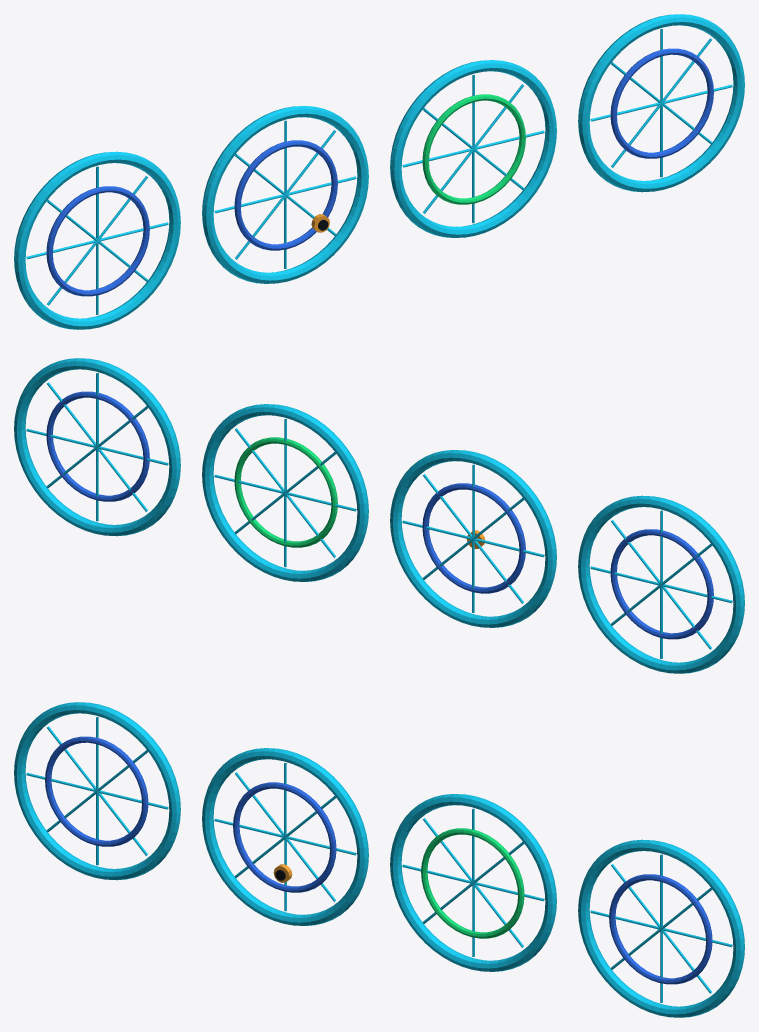
The model's file is 07_L88_FourCompartmentAtmosphereDigitalTwin.fbx.
3 views of the same model, one above another, from view 1: azimuth 30°, elevation 25°; view 2: azimuth 150°, elevation 25°; view 3: azimuth 330°, elevation 25° (orthographic).
Parts seen in each view (by area): view 1: L87_FourCompartmentAtmosphereDigitalTwin_Part_0000, L87_FourCompartmentAtmosphereDigitalTwin_Part_0001, L87_FourCompartmentAtmosphereDigitalTwin_Part_0002, L87_FourCompartmentAtmosphereDigitalTwin_Part_0003, L87_FourCompartmentAtmosphereDigitalTwin_Part_0004; view 2: L87_FourCompartmentAtmosphereDigitalTwin_Part_0000, L87_FourCompartmentAtmosphereDigitalTwin_Part_0001, L87_FourCompartmentAtmosphereDigitalTwin_Part_0002, L87_FourCompartmentAtmosphereDigitalTwin_Part_0003, L87_FourCompartmentAtmosphereDigitalTwin_Part_0004; view 3: L87_FourCompartmentAtmosphereDigitalTwin_Part_0000, L87_FourCompartmentAtmosphereDigitalTwin_Part_0001, L87_FourCompartmentAtmosphereDigitalTwin_Part_0002, L87_FourCompartmentAtmosphereDigitalTwin_Part_0003, L87_FourCompartmentAtmosphereDigitalTwin_Part_0004.
Boxes of the visible parts, x1,y1,x2,y2 form: L87_FourCompartmentAtmosphereDigitalTwin_Part_0000: (14, 14, 744, 329); L87_FourCompartmentAtmosphereDigitalTwin_Part_0001: (46, 48, 713, 296); L87_FourCompartmentAtmosphereDigitalTwin_Part_0002: (26, 75, 544, 314); L87_FourCompartmentAtmosphereDigitalTwin_Part_0003: (402, 29, 732, 223); L87_FourCompartmentAtmosphereDigitalTwin_Part_0004: (422, 94, 525, 204); L87_FourCompartmentAtmosphereDigitalTwin_Part_0000: (14, 358, 744, 673); L87_FourCompartmentAtmosphereDigitalTwin_Part_0001: (46, 391, 713, 639); L87_FourCompartmentAtmosphereDigitalTwin_Part_0002: (214, 419, 732, 658); L87_FourCompartmentAtmosphereDigitalTwin_Part_0003: (26, 373, 356, 567); L87_FourCompartmentAtmosphereDigitalTwin_Part_0004: (234, 437, 337, 547); L87_FourCompartmentAtmosphereDigitalTwin_Part_0000: (14, 702, 744, 1017); L87_FourCompartmentAtmosphereDigitalTwin_Part_0001: (45, 736, 712, 984); L87_FourCompartmentAtmosphereDigitalTwin_Part_0002: (26, 717, 544, 911); L87_FourCompartmentAtmosphereDigitalTwin_Part_0003: (402, 854, 732, 1002); L87_FourCompartmentAtmosphereDigitalTwin_Part_0004: (421, 828, 524, 938).
Bounding box in the file's own units: 602 × 137 × 35.5.
